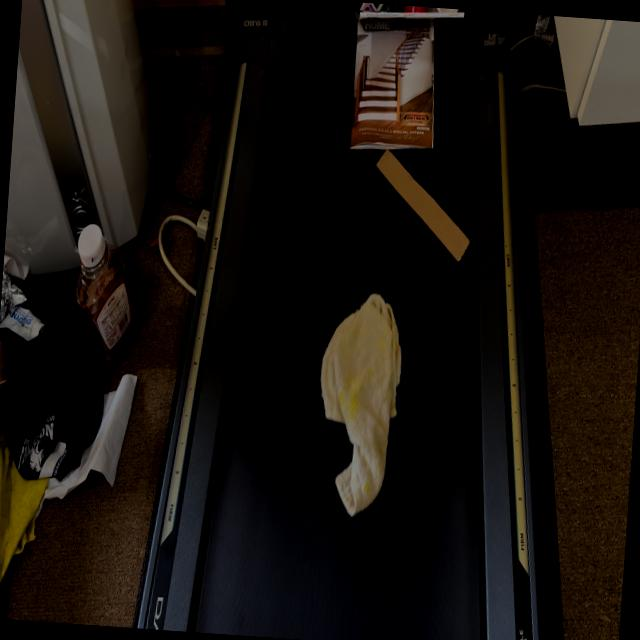Recycle: (348, 4, 446, 153), (364, 152, 477, 266)
Trash: (307, 290, 408, 521)
